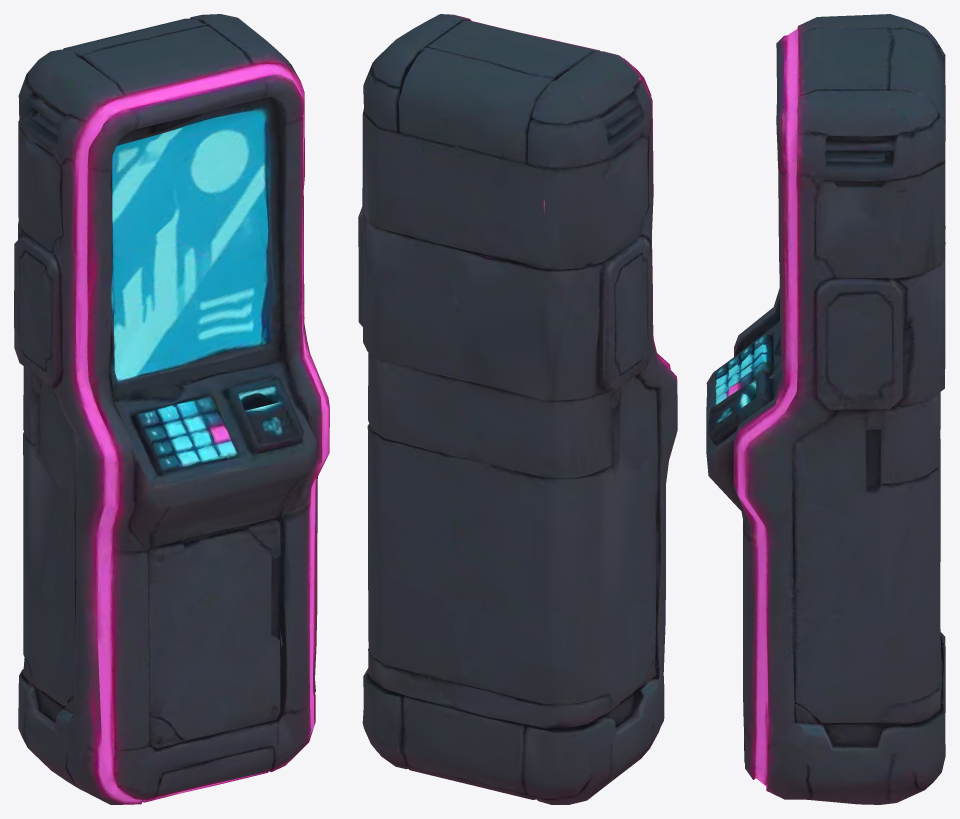
Rendered from env-terminal.glb.
The picture shows the model from 3 angles, left to right: view 1: azimuth 30°, elevation 25°; view 2: azimuth 150°, elevation 25°; view 3: azimuth 270°, elevation 25°; orthographic projection. The views are drawn at different scales.
Visible parts, largest first — view 1: env-terminal; view 2: env-terminal; view 3: env-terminal.
Part boxes in pixels (box(x1,y1,x2,y2)): env-terminal: box(14, 14, 329, 804); env-terminal: box(358, 14, 677, 804); env-terminal: box(706, 14, 945, 804).
Bounding box in the file's own units: 0.8542 × 2.3 × 0.7113.
1 material, 1 textured.
